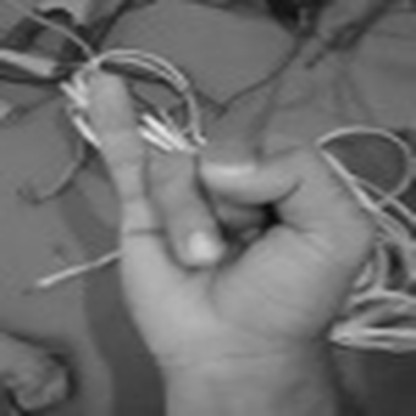i: (82, 65, 381, 359)
